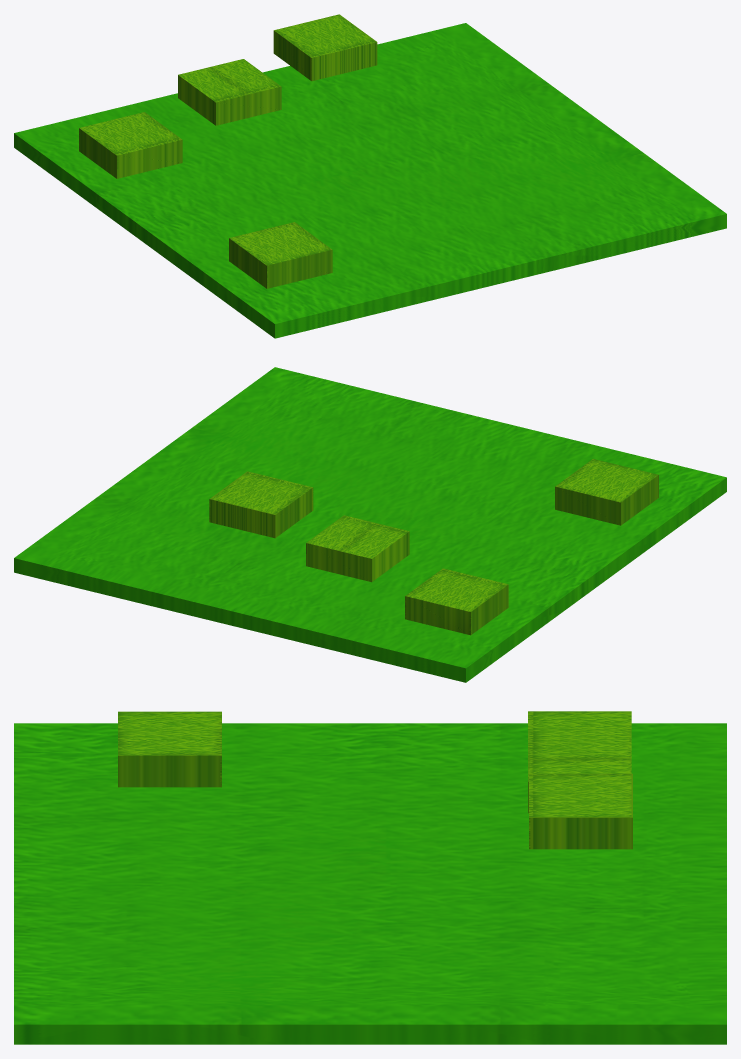
The model's file is LevelTest.obj.
3 views of the same model, one above another, from view 1: azimuth 30°, elevation 25°; view 2: azimuth 150°, elevation 25°; view 3: azimuth 270°, elevation 25° (orthographic). The views are drawn at different scales.
Visible parts, largest first — view 1: Cube.001; view 2: Cube.001; view 3: Cube.001.
Part boxes in pixels (bbox=[...]): Cube.001: bbox=[14, 14, 726, 338]; Cube.001: bbox=[14, 367, 726, 682]; Cube.001: bbox=[14, 711, 726, 1044].
Size of the model in its own units: 13.75 by 2.55 by 13.75.
